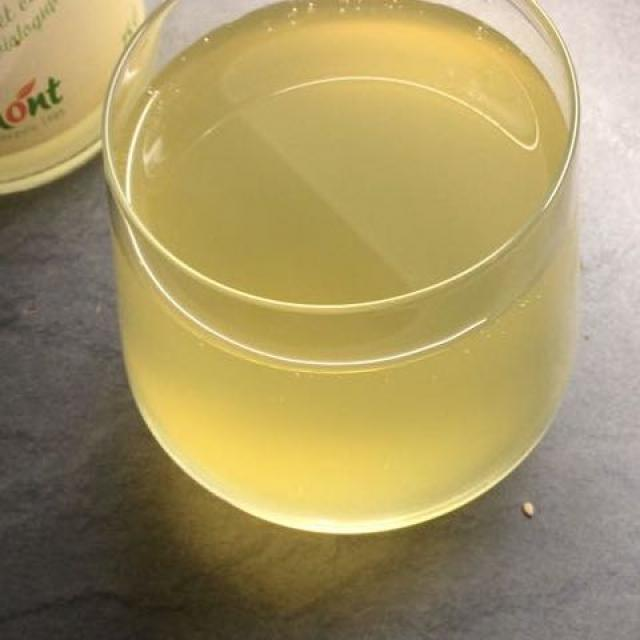drink: (122, 15, 570, 501)
